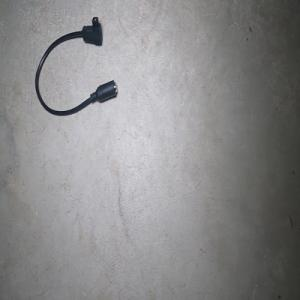Wire: (34, 16, 117, 116)
